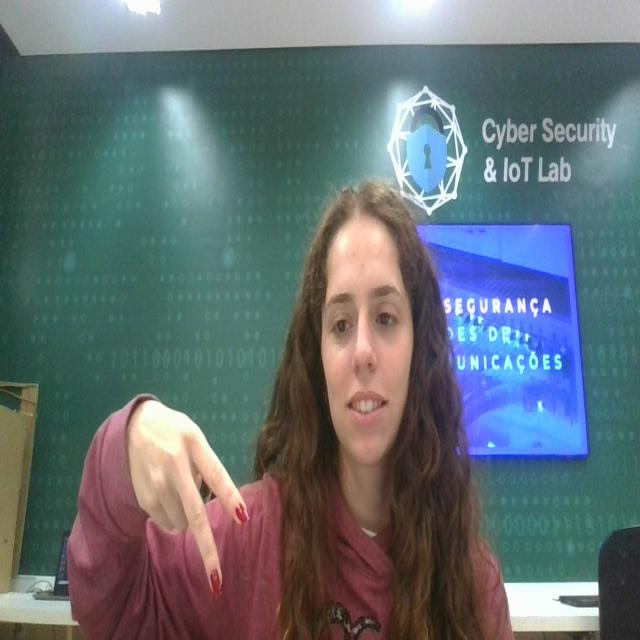P: (125, 393, 252, 600)
